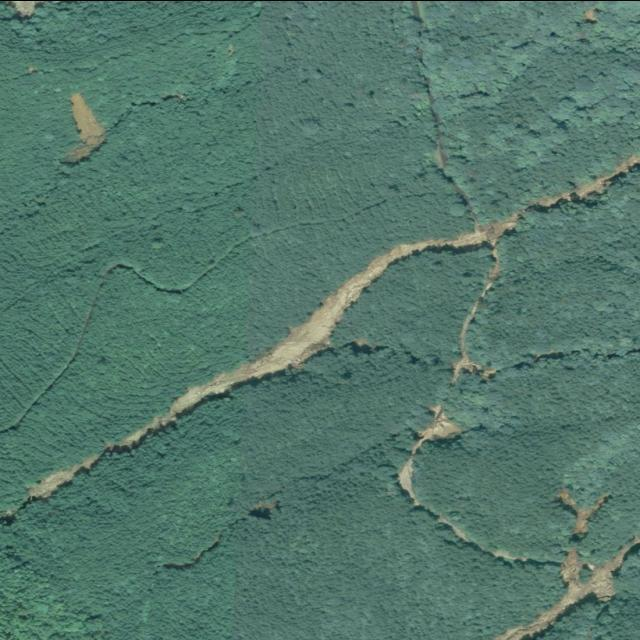landslide: (27, 155, 640, 501), (494, 537, 640, 640), (397, 404, 464, 506), (558, 489, 607, 537)
